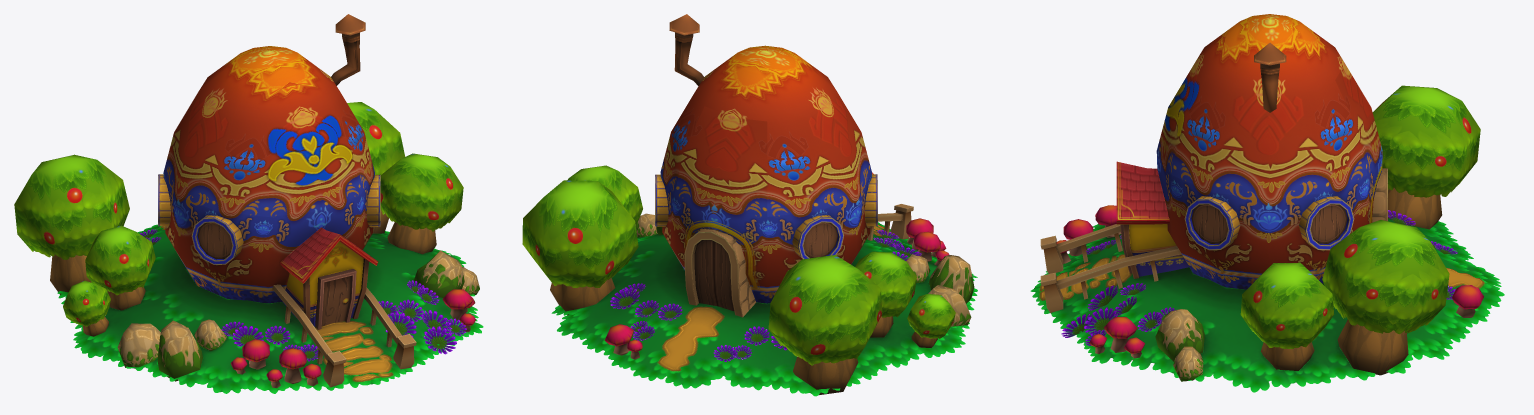
The model's file is Egg_House_06.FBX.
3 views of the same model, side by side, from view 1: azimuth 30°, elevation 25°; view 2: azimuth 150°, elevation 25°; view 3: azimuth 270°, elevation 25° (orthographic). The views are drawn at different scales.
Visible parts, largest first — view 1: Egg_House_06; view 2: Egg_House_06; view 3: Egg_House_06.
Boxes of the visible parts, x1,y1,x2,y2 form: Egg_House_06: (14, 14, 483, 393); Egg_House_06: (522, 14, 977, 396); Egg_House_06: (1030, 14, 1504, 392).
Bounding box in the file's own units: 4.67 × 3.07 × 4.67.
